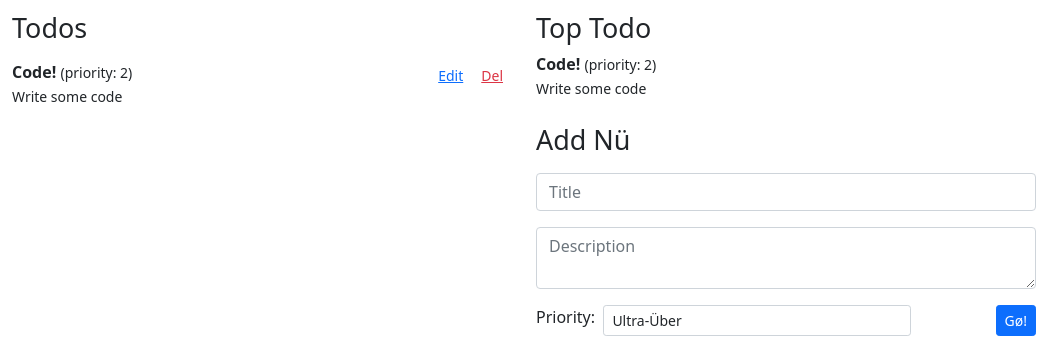
Test: main TodoApp component › updating a todo
This screenshot has width=1048, height=353.
Click the button "Edit": {"x": 451, "y": 76} [429,60,472,91]
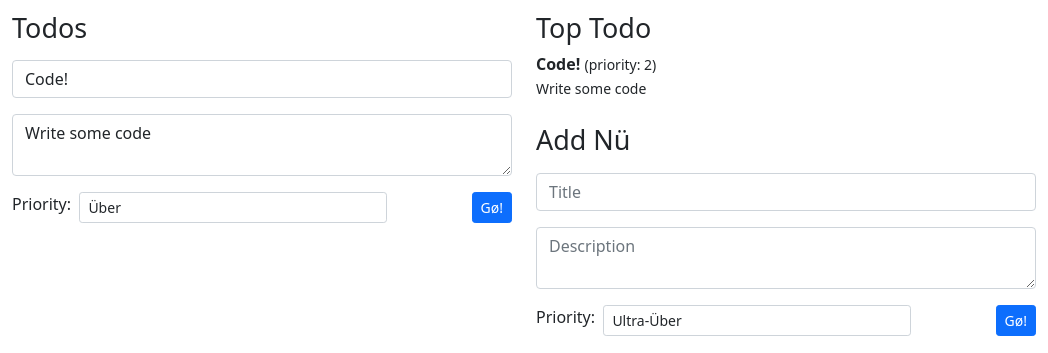
Replace the text in the field named "Title" with "test-title": {"x": 262, "y": 79} [12,60,512,98]
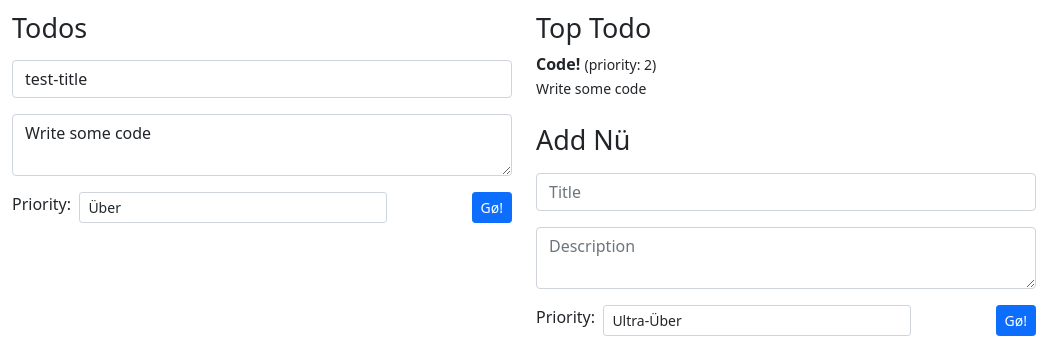
Click the 1st button "Gø!": {"x": 492, "y": 208} [472,192,512,223]
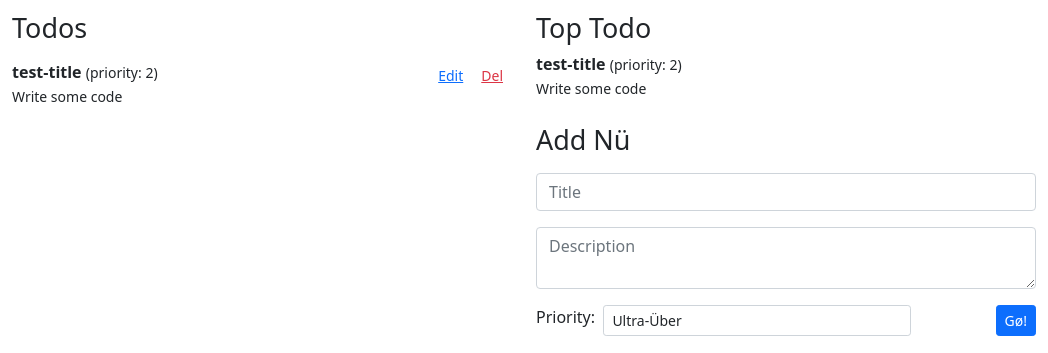
Now the text "test-title" is shown 2 times, box [12,61,82,83]; [536,53,606,75]
Now the text "Code!" is gone
